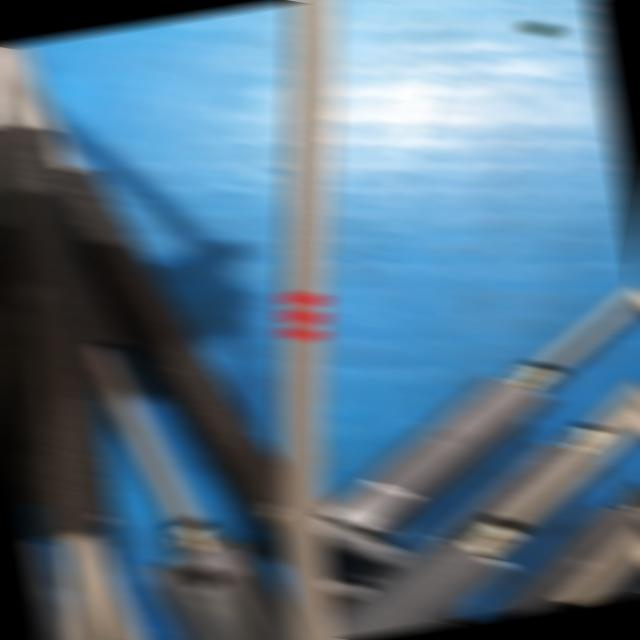red: (277, 289, 336, 344)
